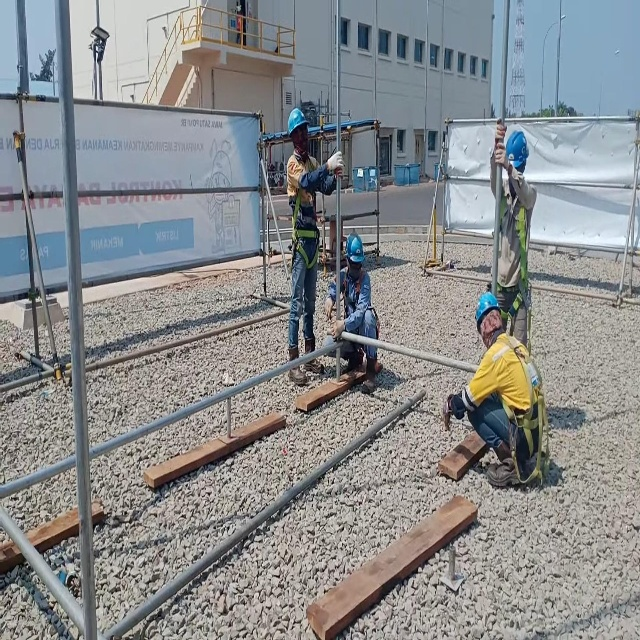Arnes_seguridad: (496, 330, 549, 491), (492, 193, 532, 317), (341, 265, 380, 352), (288, 188, 320, 275)
